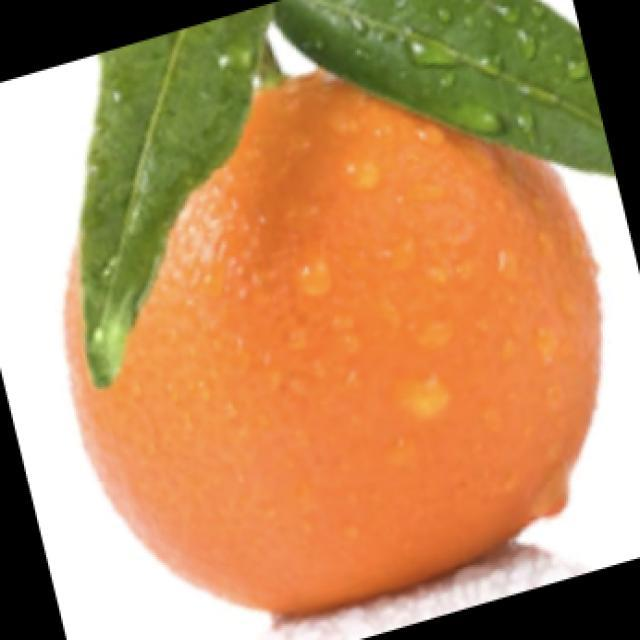matang: (67, 72, 600, 614)
